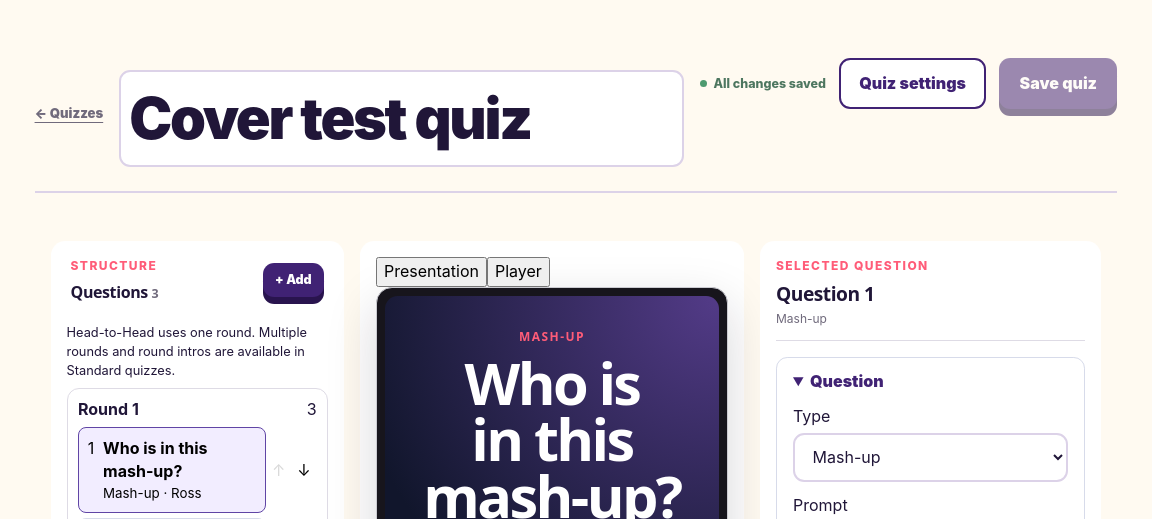
Test: QuizEditorPage quiz appearance › omits Connections from both Head-to-Head question pickers
The width and height of the screenshot is (1152, 519).
Click the button "+ Add". click: (293, 280)
box: [263,263,324,297]
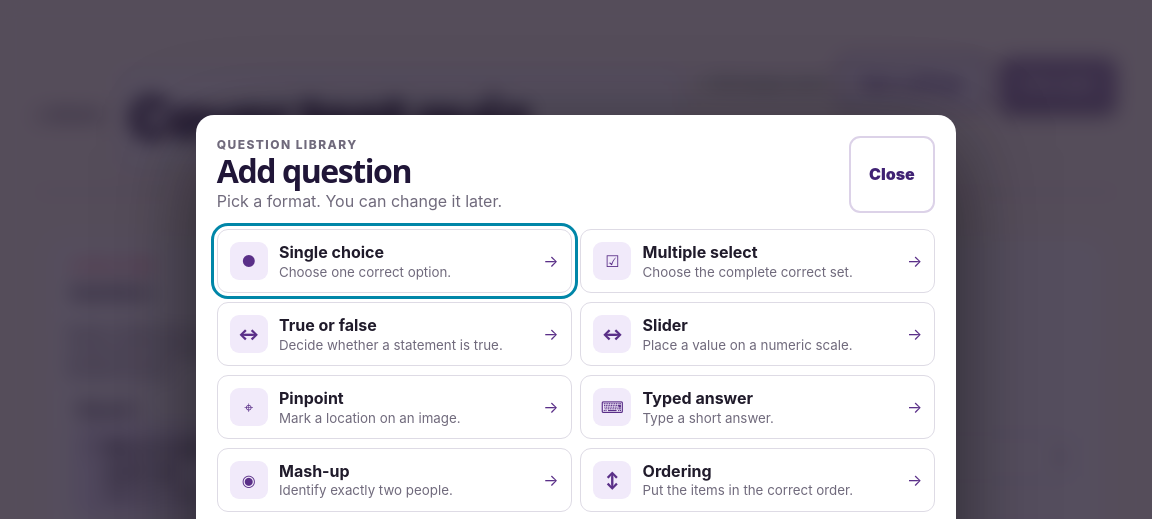
Check: the button "↕ Ordering Put the items in the correct order. →" is shown, box [580,448,935,512]
